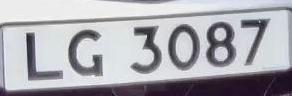0: (161, 18, 203, 75)
3: (123, 19, 166, 81)
7: (235, 13, 273, 72)
8: (201, 15, 240, 73)
G: (63, 22, 109, 85)
L: (19, 25, 67, 87)
